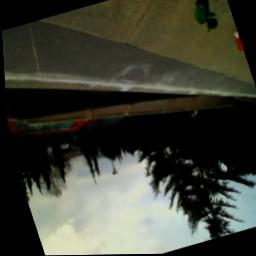herb: (187, 1, 228, 37)
